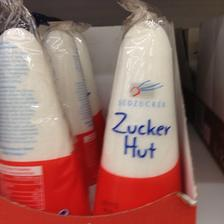Zucker: (88, 15, 182, 212), (0, 28, 88, 212), (44, 26, 100, 182)
